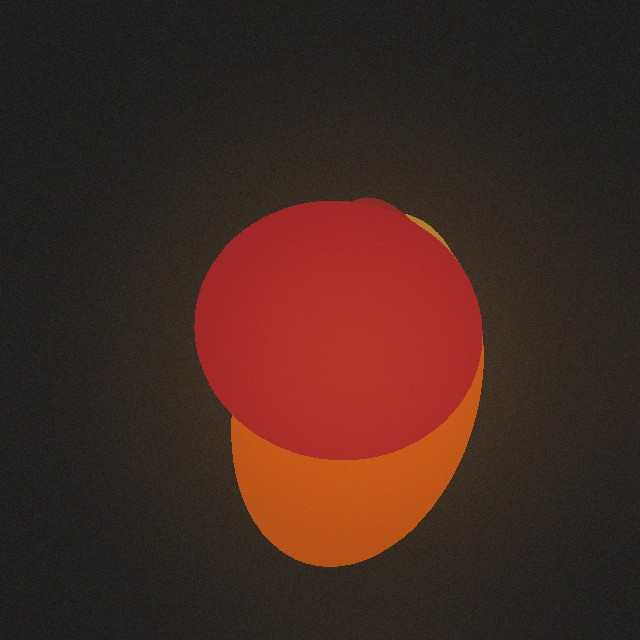fire: (227, 234, 483, 488)
